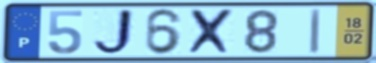5: (46, 8, 84, 56)
6: (143, 7, 184, 57)
8: (243, 8, 281, 55)
I: (307, 7, 323, 56)
J: (90, 7, 137, 58)
X: (186, 7, 238, 56)
